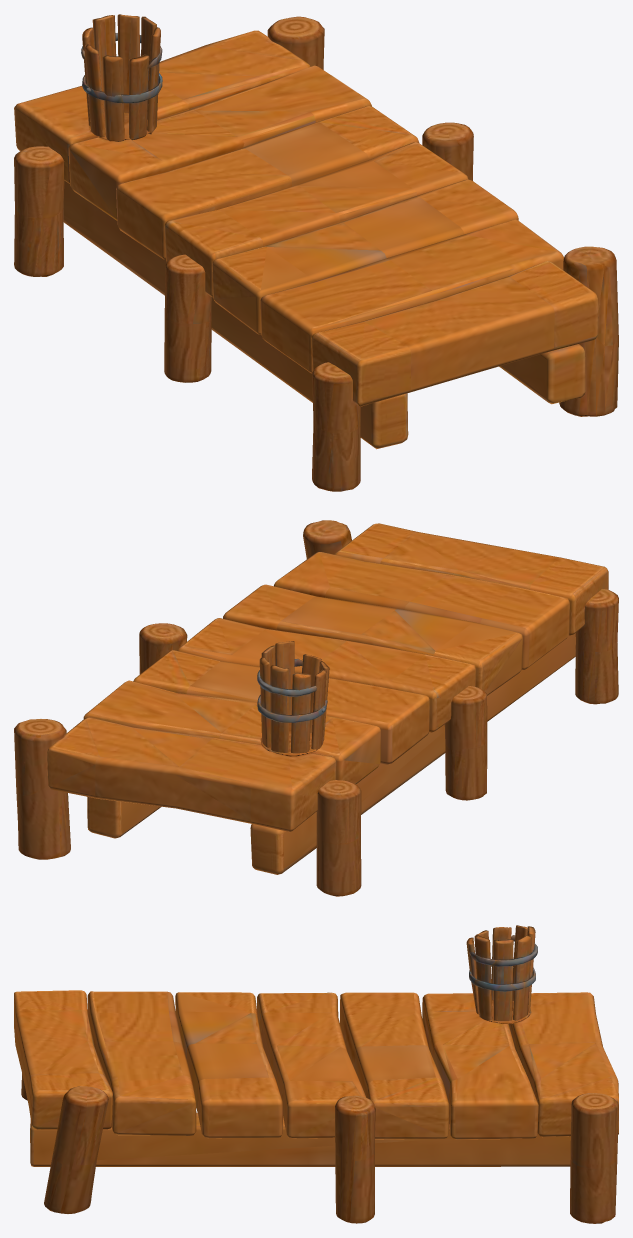
File: dock.glb
The picture shows the model from 3 angles, top to bottom: view 1: azimuth 30°, elevation 25°; view 2: azimuth 150°, elevation 25°; view 3: azimuth 270°, elevation 25°; orthographic projection. The views are drawn at different scales.
Bounding box in the file's own units: 0.5488 × 0.3555 × 1.
Materials: 1 (1 with a texture image).
